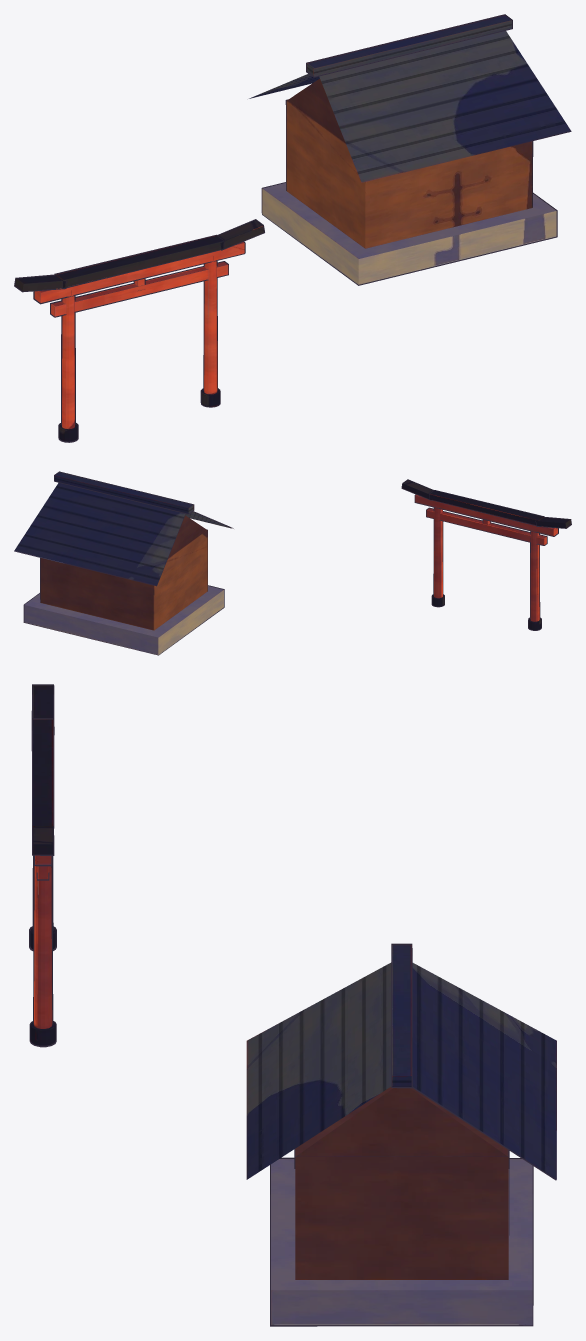
Rendered from shrine.glb.
3 views of the same model, one above another, from view 1: azimuth 30°, elevation 25°; view 2: azimuth 150°, elevation 25°; view 3: azimuth 270°, elevation 25° (orthographic). The views are drawn at different scales.
Parts seen in each view (by area): view 1: piece_shrine; view 2: piece_shrine; view 3: piece_shrine.
Part boxes in pixels (bbox=[...]): piece_shrine: bbox=[14, 14, 571, 442]; piece_shrine: bbox=[14, 471, 571, 655]; piece_shrine: bbox=[29, 684, 556, 1326].
Size of the model in its own units: 20.33 by 5.72 by 10.89.
Materials: 2 (1 with a texture image).
